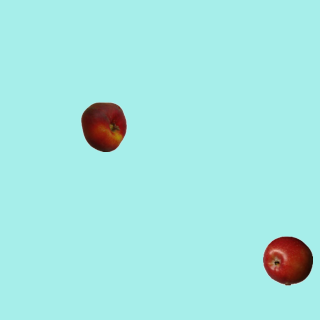Apple Braeburn: (262, 235, 312, 285)
Nectarine Flat: (78, 101, 128, 151)
